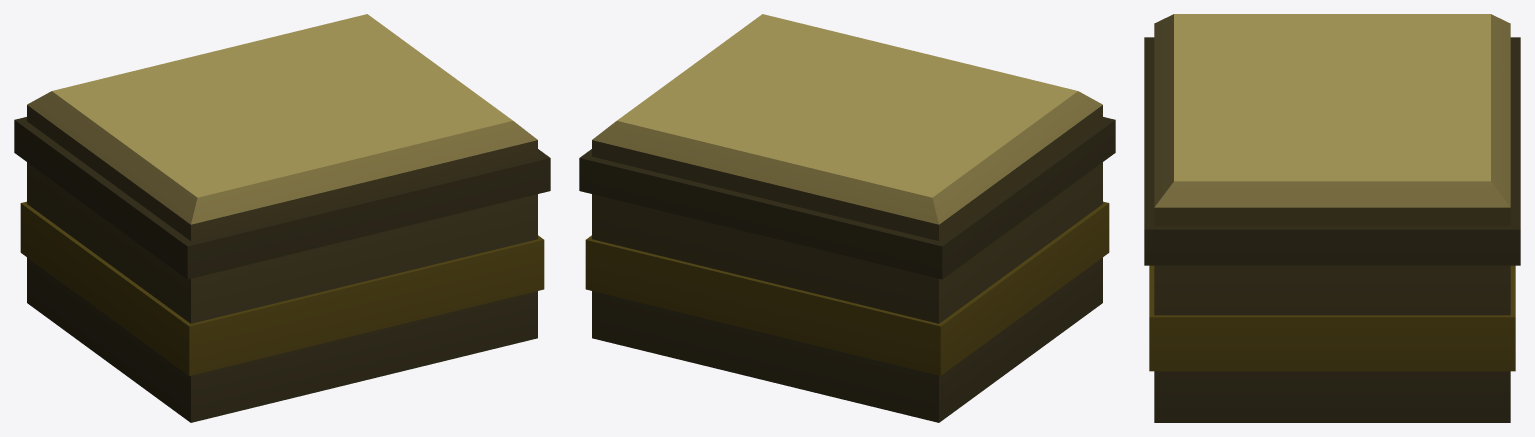
The model's file is storage-chest.glb.
The picture shows the model from 3 angles, left to right: view 1: azimuth 30°, elevation 25°; view 2: azimuth 150°, elevation 25°; view 3: azimuth 270°, elevation 25°; orthographic projection. The views are drawn at different scales.
Visible parts, largest first — view 1: storage-chest; view 2: storage-chest; view 3: storage-chest.
Boxes of the visible parts, bbox=[...] form: storage-chest: bbox=[14, 14, 550, 422]; storage-chest: bbox=[579, 14, 1115, 422]; storage-chest: bbox=[1144, 14, 1520, 422].
Size of the model in its own units: 0.23 by 0.13 by 0.19.
